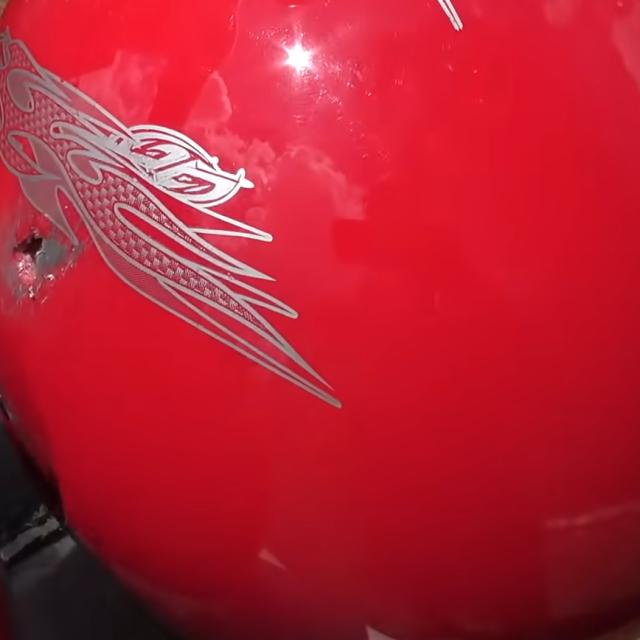bullets: (0, 208, 62, 300)
